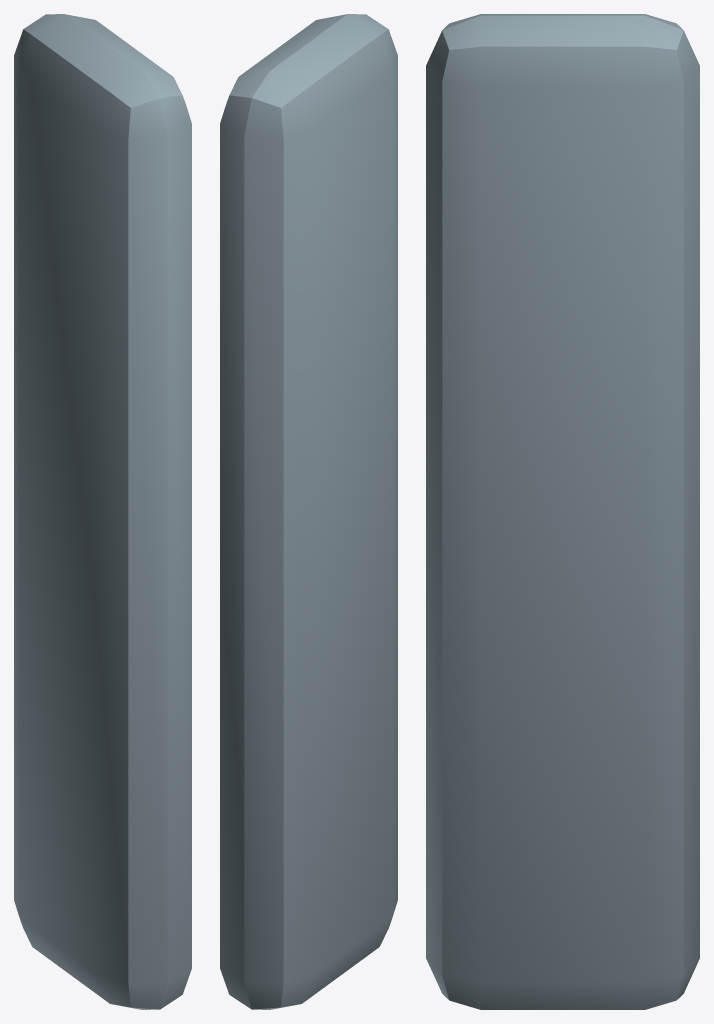
File: Wall_Door.fbx
The picture shows the model from 3 angles, left to right: view 1: azimuth 30°, elevation 25°; view 2: azimuth 150°, elevation 25°; view 3: azimuth 270°, elevation 25°; orthographic projection. The views are drawn at different scales.
Parts seen in each view (by area): view 1: Cube.008; view 2: Cube.008; view 3: Cube.008.
Boxes of the visible parts, <box> form: Cube.008: <box>14,14,191,1009</box>; Cube.008: <box>220,14,397,1009</box>; Cube.008: <box>426,14,699,1009</box>.
Bounding box in the file's own units: 20 × 200 × 50.
1 material, 1 textured.
